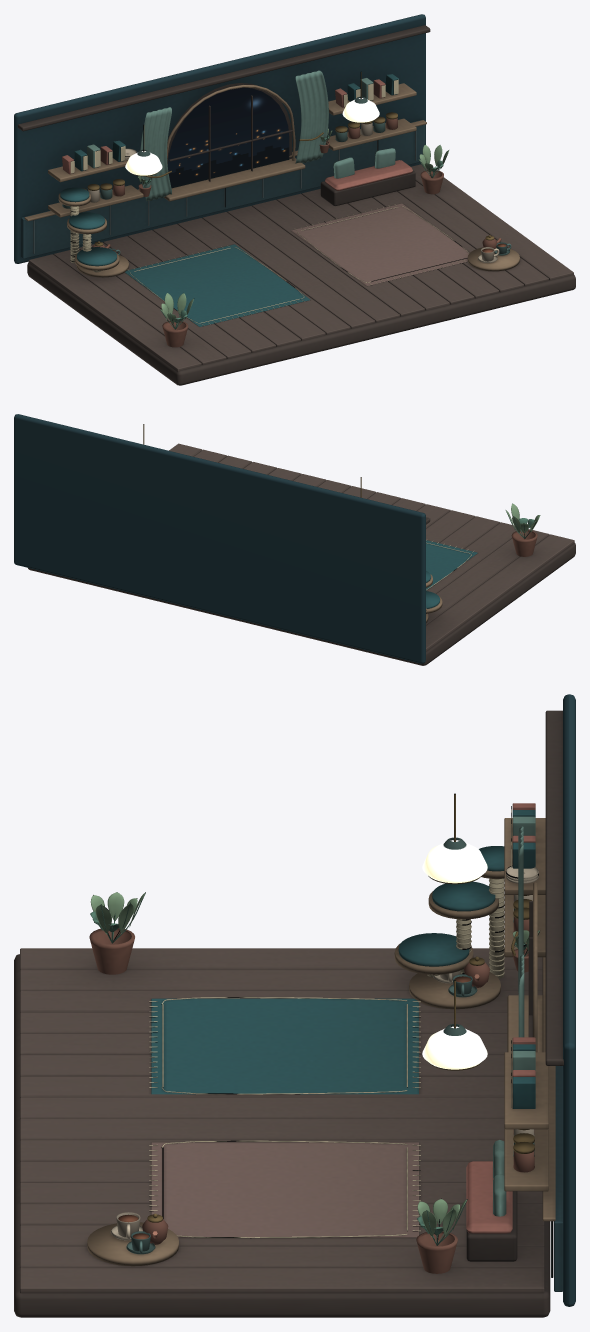
File: cafe.glb
3 views of the same model, one above another, from view 1: azimuth 30°, elevation 25°; view 2: azimuth 150°, elevation 25°; view 3: azimuth 270°, elevation 25° (orthographic). The views are drawn at different scales.
Parts seen in each view (by area): view 1: atelier-cafe-static, night-glass, atelier-cafe-lampPaper; view 2: atelier-cafe-static; view 3: atelier-cafe-static, atelier-cafe-lampPaper.
Part boxes in pixels (left/top/right/bottom): atelier-cafe-static: left=14, top=14, right=575, bottom=385; night-glass: left=167, top=87, right=289, bottom=188; atelier-cafe-lampPaper: left=125, top=98, right=379, bottom=175; atelier-cafe-static: left=14, top=414, right=575, bottom=665; atelier-cafe-static: left=14, top=694, right=575, bottom=1317; atelier-cafe-lampPaper: left=422, top=840, right=487, bottom=1069.
Size of the model in its own units: 14 by 5.2 by 9.43.
Materials: 4 (2 with a texture image).
